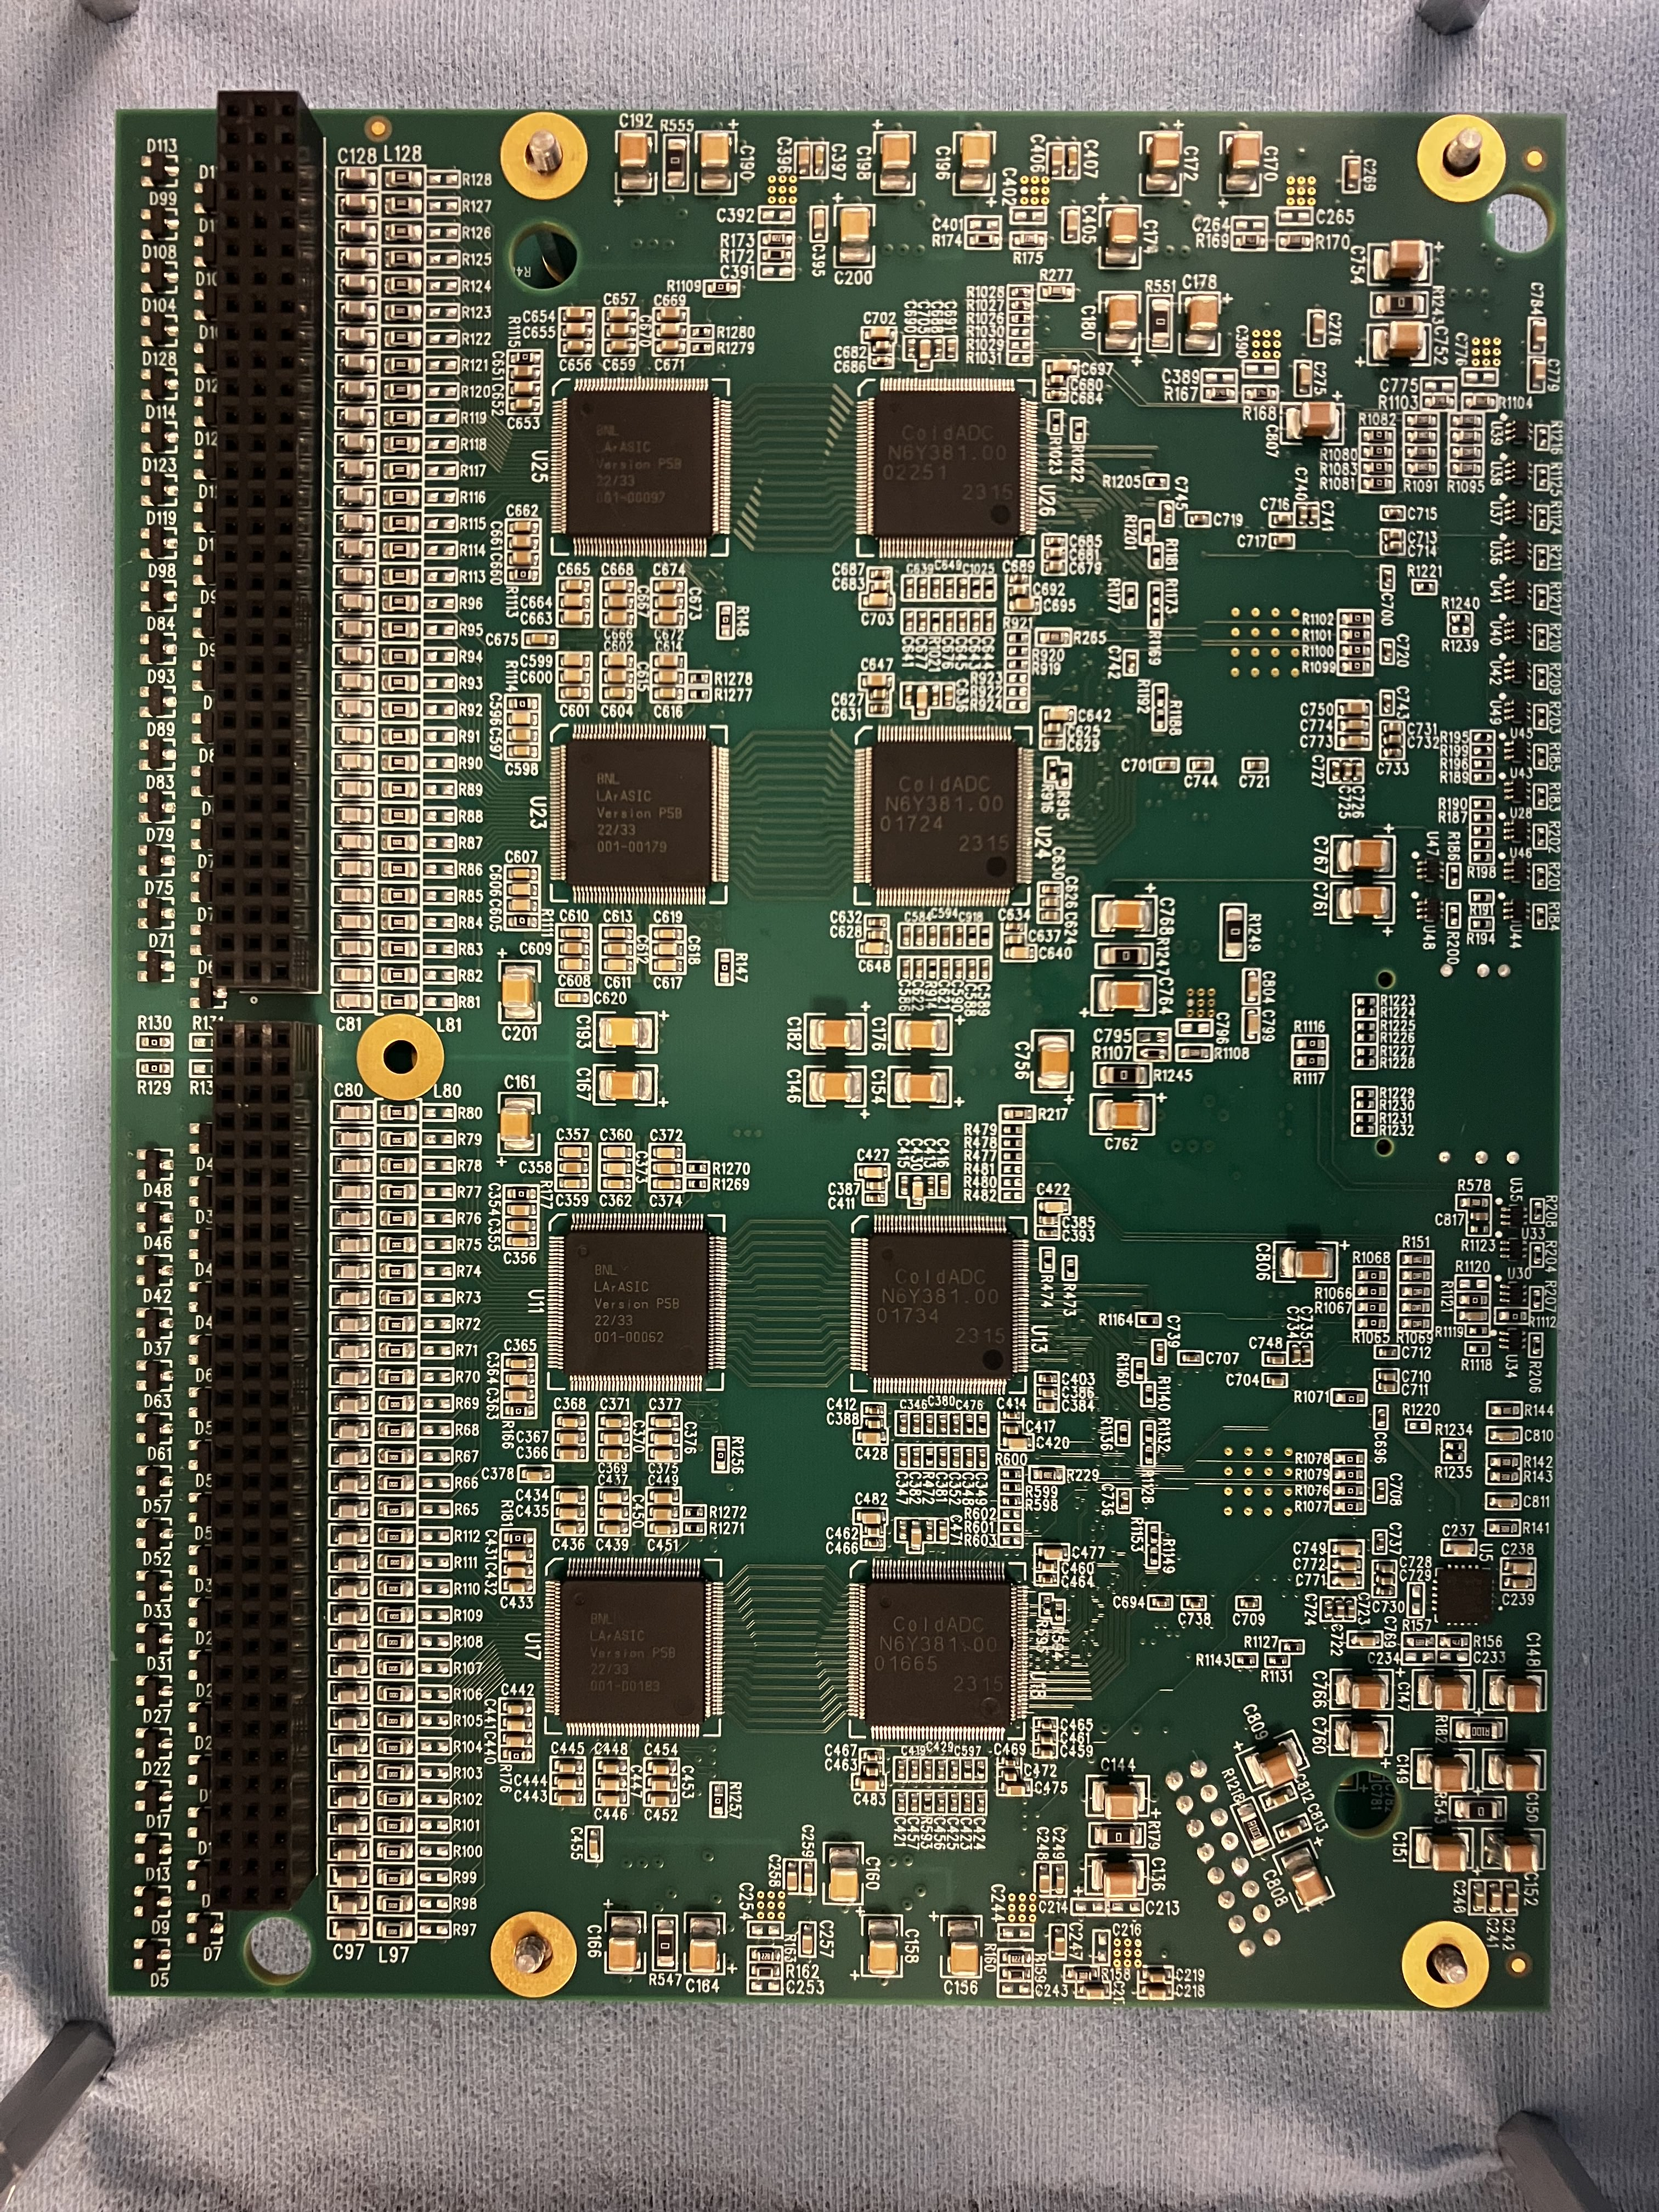chip: (565, 740, 711, 883), (563, 1230, 709, 1372), (873, 740, 1018, 883), (868, 1231, 1012, 1374), (559, 1576, 704, 1719), (863, 1580, 1007, 1723), (873, 392, 1019, 533), (568, 394, 713, 535)
